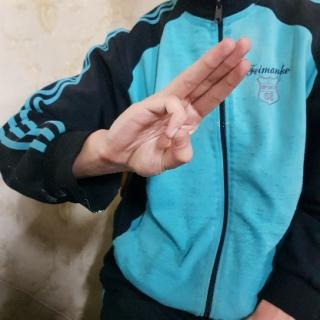THA: (100, 34, 255, 190)
